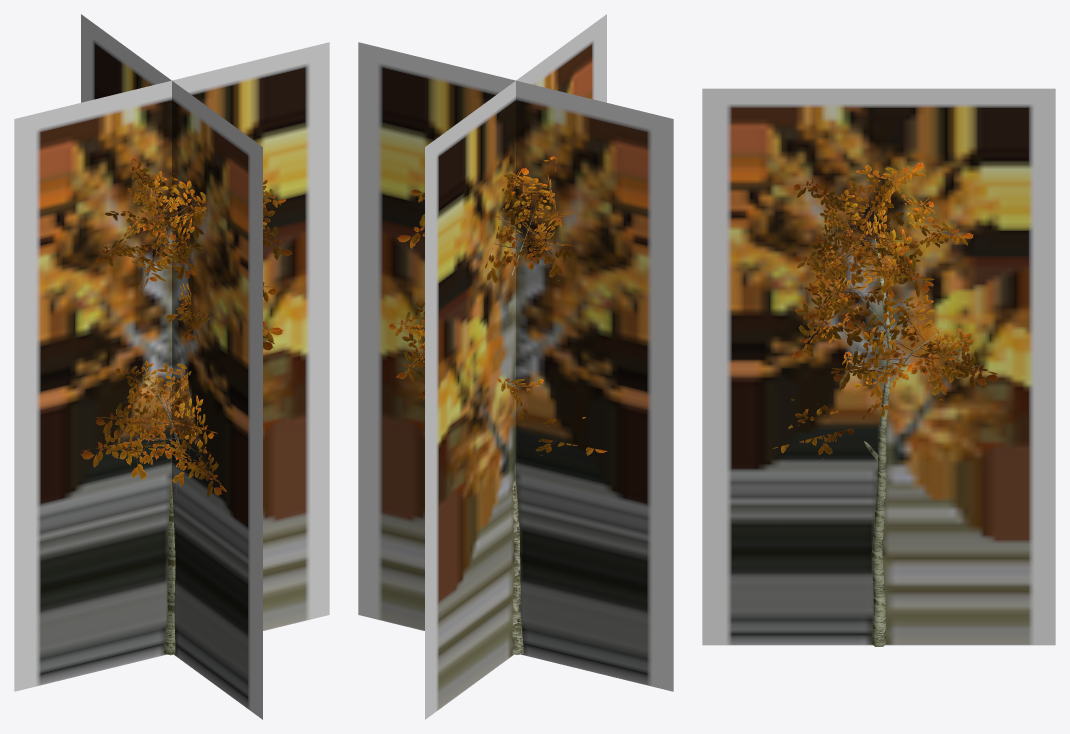
Rendered from Tree-Beech3B-mobile.fbx.
The picture shows the model from 3 angles, left to right: view 1: azimuth 30°, elevation 25°; view 2: azimuth 150°, elevation 25°; view 3: azimuth 270°, elevation 25°; orthographic projection. The views are drawn at different scales.
Visible parts, largest first — view 1: Billboard-BeechB, Tree-Beech3B-mobile_LOD0; view 2: Billboard-BeechB, Tree-Beech3B-mobile_LOD0; view 3: Billboard-BeechB, Tree-Beech3B-mobile_LOD0.
Boxes of the visible parts, x1,y1,x2,y2 form: Billboard-BeechB: [14, 14, 329, 719]; Tree-Beech3B-mobile_LOD0: [80, 158, 292, 655]; Billboard-BeechB: [358, 14, 673, 719]; Tree-Beech3B-mobile_LOD0: [388, 156, 607, 654]; Billboard-BeechB: [702, 88, 1055, 645]; Tree-Beech3B-mobile_LOD0: [773, 162, 998, 646].
Size of what is drawn, in the model's own units: 946 by 1642 by 946.
